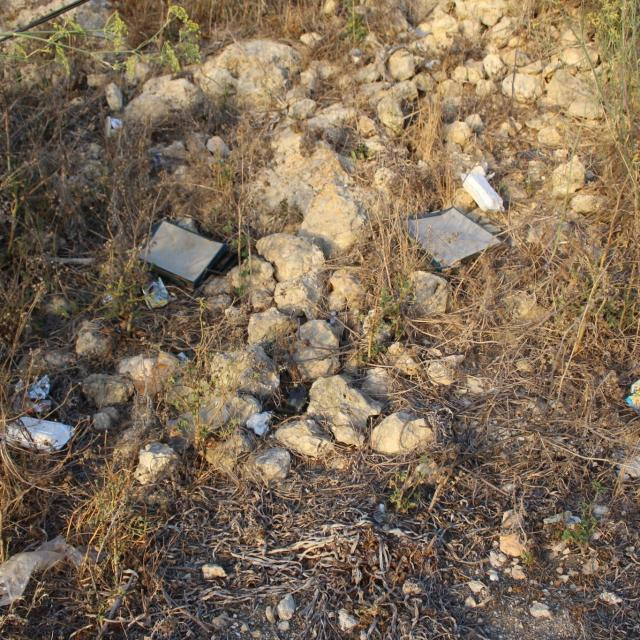Other litter: (135, 219, 242, 295), (401, 206, 504, 273), (116, 351, 191, 395), (104, 117, 124, 139)
Other plastic: (168, 394, 232, 453), (13, 375, 50, 415), (140, 275, 179, 309), (274, 388, 310, 416), (244, 410, 277, 438)
Plastic bag - wrapper: (624, 388, 640, 413)
Styrofoam piece: (0, 416, 78, 453), (459, 174, 507, 213)
